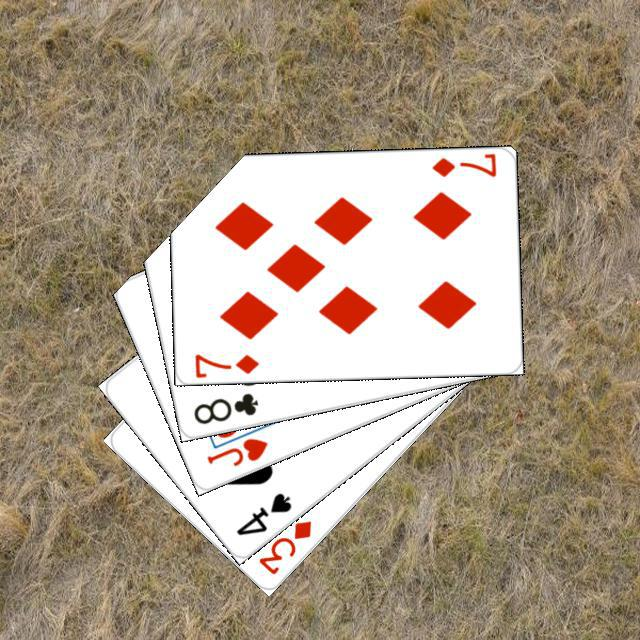3d: (253, 515, 314, 577)
4s: (231, 487, 294, 538)
7d: (189, 349, 261, 377), (427, 151, 498, 179)
8c: (188, 388, 260, 426)
Jh: (202, 433, 270, 468)
